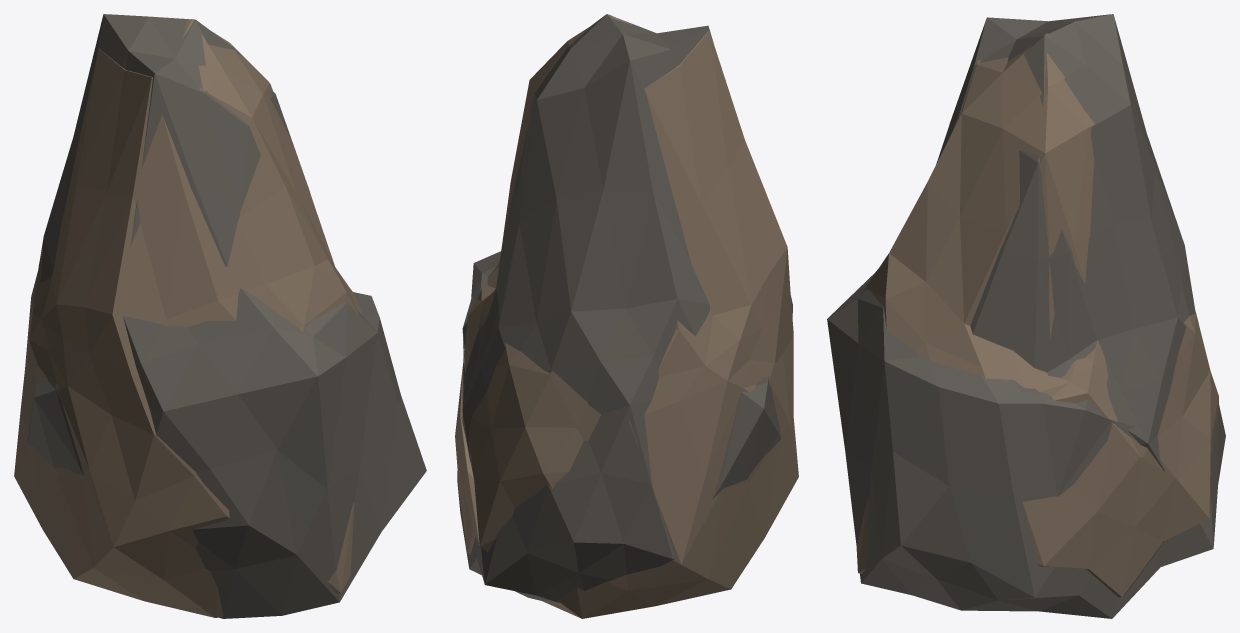
The model's file is tall rock.fbx.
The picture shows the model from 3 angles, left to right: view 1: azimuth 30°, elevation 25°; view 2: azimuth 150°, elevation 25°; view 3: azimuth 270°, elevation 25°; orthographic projection. The views are drawn at different scales.
Parts seen in each view (by area): view 1: Icosphere, Icosphere.001; view 2: Icosphere.001, Icosphere; view 3: Icosphere.001, Icosphere.
Part boxes in pixels (x1,y1,x2,y2): Icosphere: (14,19,361,617); Icosphere.001: (25,14,426,618); Icosphere.001: (457,14,792,602); Icosphere: (455,14,798,618); Icosphere.001: (827,14,1225,618); Icosphere: (856,33,1218,597).
Size of the model in its own units: 217 by 364 by 239.
